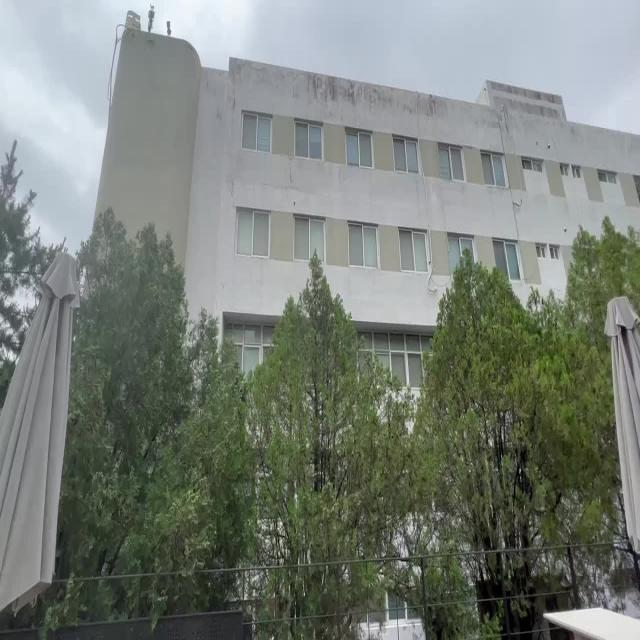building: (125, 27, 538, 309)
